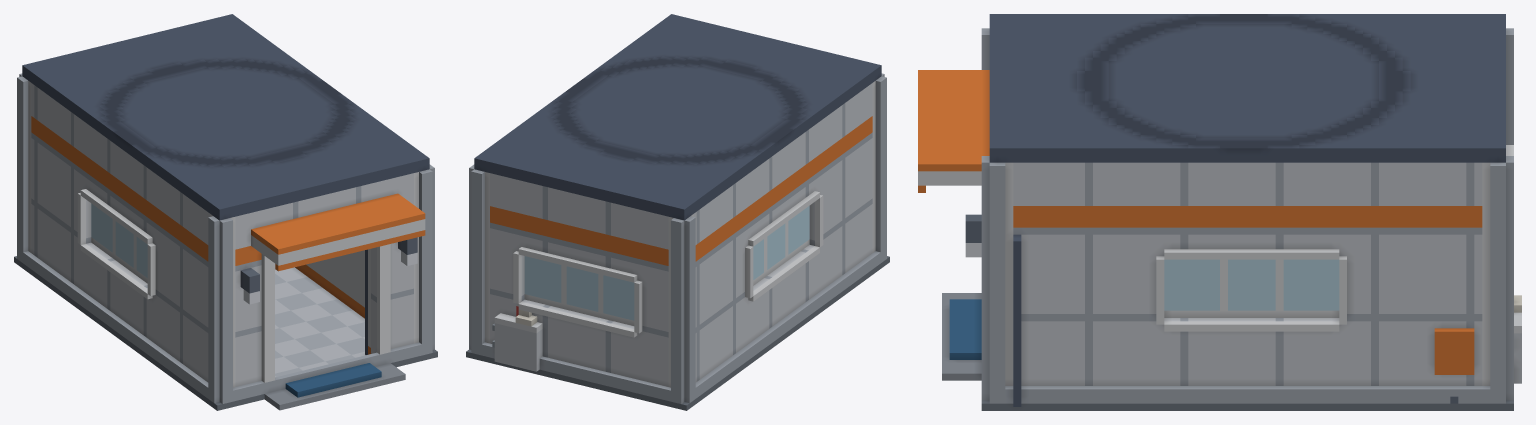
The model's file is lab_e3_l2.glb.
3 views of the same model, side by side, from view 1: azimuth 30°, elevation 25°; view 2: azimuth 150°, elevation 25°; view 3: azimuth 270°, elevation 25° (orthographic). The views are drawn at different scales.
Parts seen in each view (by area): view 1: CutRoof, Base, CutPZ, CutNX, CutNZ; view 2: CutRoof, CutNZ, Base, CutNX, CutPZ; view 3: CutPX, CutRoof, Base, CutPZ, CutNZ.
Part boxes in pixels (bbox=[...]): CutRoof: bbox=[22, 14, 429, 220]; Base: bbox=[14, 209, 437, 410]; CutPZ: bbox=[208, 164, 434, 354]; CutNX: bbox=[31, 83, 210, 343]; CutNZ: bbox=[17, 73, 31, 214]; CutRoof: bbox=[474, 14, 881, 220]; CutNZ: bbox=[469, 164, 695, 354]; Base: bbox=[466, 209, 889, 410]; CutNX: bbox=[693, 83, 872, 343]; CutPZ: bbox=[872, 73, 886, 214]; CutPX: bbox=[1013, 162, 1482, 335]; CutRoof: bbox=[989, 14, 1505, 162]; Base: bbox=[942, 293, 1521, 410]; CutPZ: bbox=[918, 28, 1021, 342]; CutNZ: bbox=[1482, 28, 1513, 338].
Bounding box in the file's own units: 4.3 × 3.6 × 7.6.
